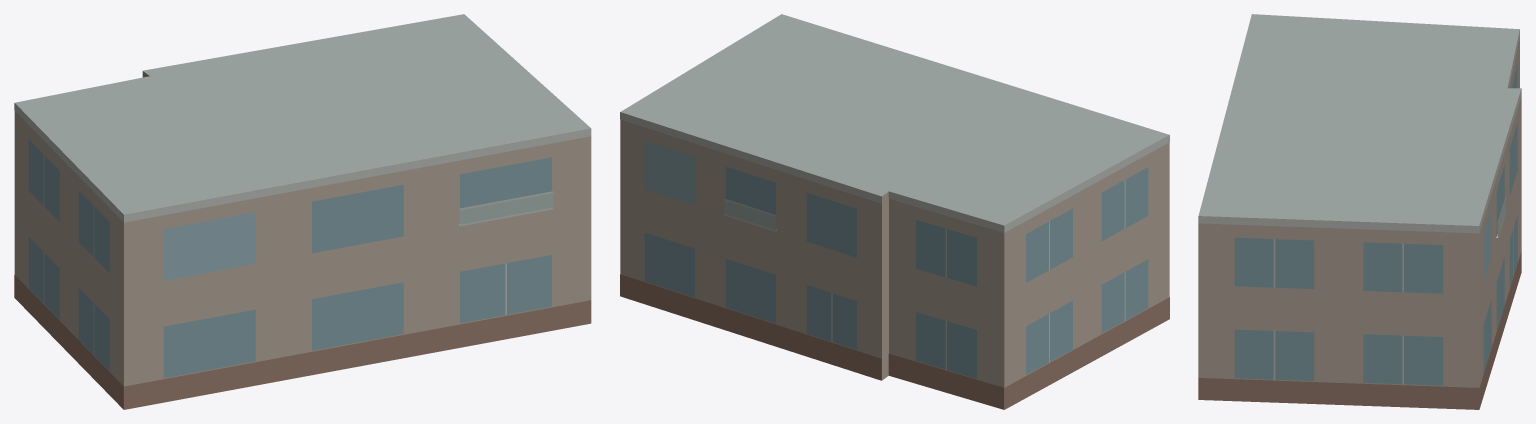
File: survey-upis-32643130.glb
3 views of the same model, side by side, from view 1: azimuth 30°, elevation 25°; view 2: azimuth 150°, elevation 25°; view 3: azimuth 270°, elevation 25° (orthographic). The views are drawn at different scales.
Parts seen in each view (by area): view 1: survey-upis-32643130.tmp; view 2: survey-upis-32643130.tmp; view 3: survey-upis-32643130.tmp.
Boxes of the visible parts, left/top/right/bottom form: survey-upis-32643130.tmp: left=14, top=14, right=591, bottom=409; survey-upis-32643130.tmp: left=620, top=14, right=1169, bottom=409; survey-upis-32643130.tmp: left=1198, top=14, right=1521, bottom=409.
Size of the model in its own units: 15.1 by 6.1 by 9.73.
